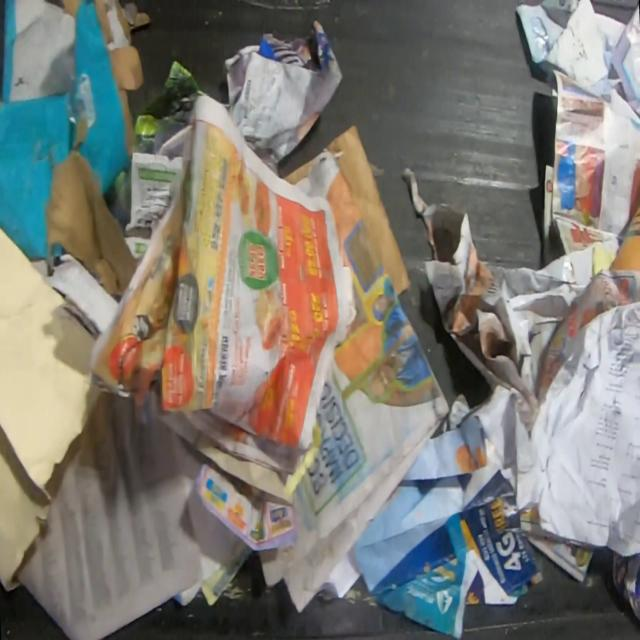cardboard: (325, 124, 412, 299), (283, 158, 314, 185)
